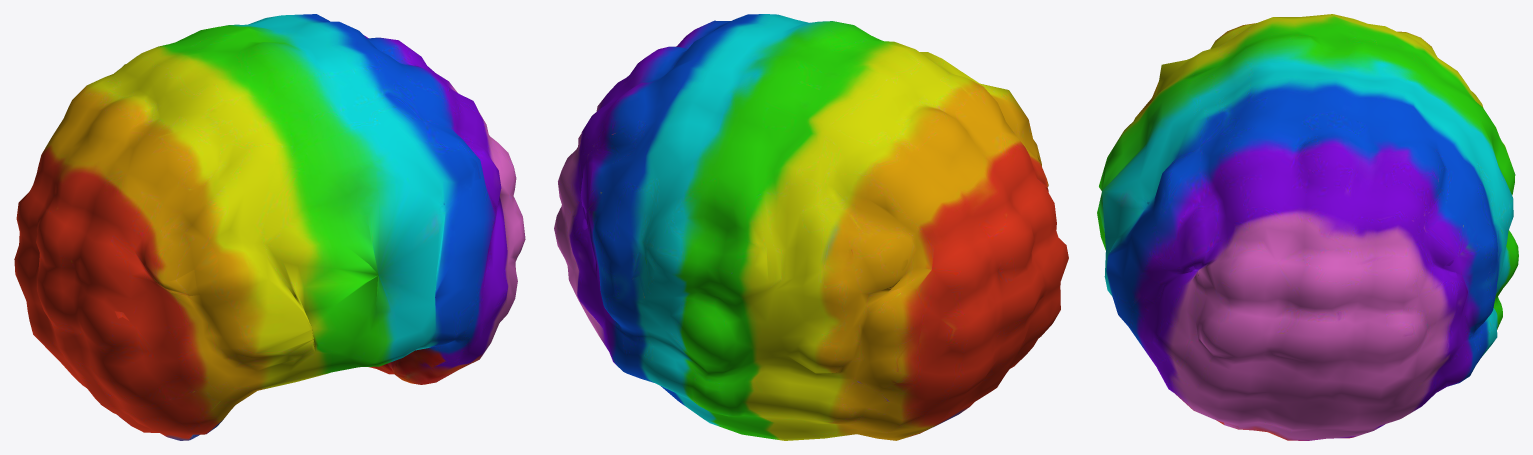
File: Afro-Rainbow.glb
3 views of the same model, side by side, from view 1: azimuth 30°, elevation 25°; view 2: azimuth 150°, elevation 25°; view 3: azimuth 270°, elevation 25° (orthographic). The views are drawn at different scales.
Visible parts, largest first — view 1: Afro-Rainbow; view 2: Afro-Rainbow; view 3: Afro-Rainbow.
Boxes of the visible parts, left/top/right/bottom form: Afro-Rainbow: left=14, top=14, right=525, bottom=440; Afro-Rainbow: left=554, top=14, right=1068, bottom=440; Afro-Rainbow: left=1097, top=14, right=1518, bottom=440.
Bounding box in the file's own units: 0.6336 × 0.4895 × 0.542.
1 material, 1 textured.
